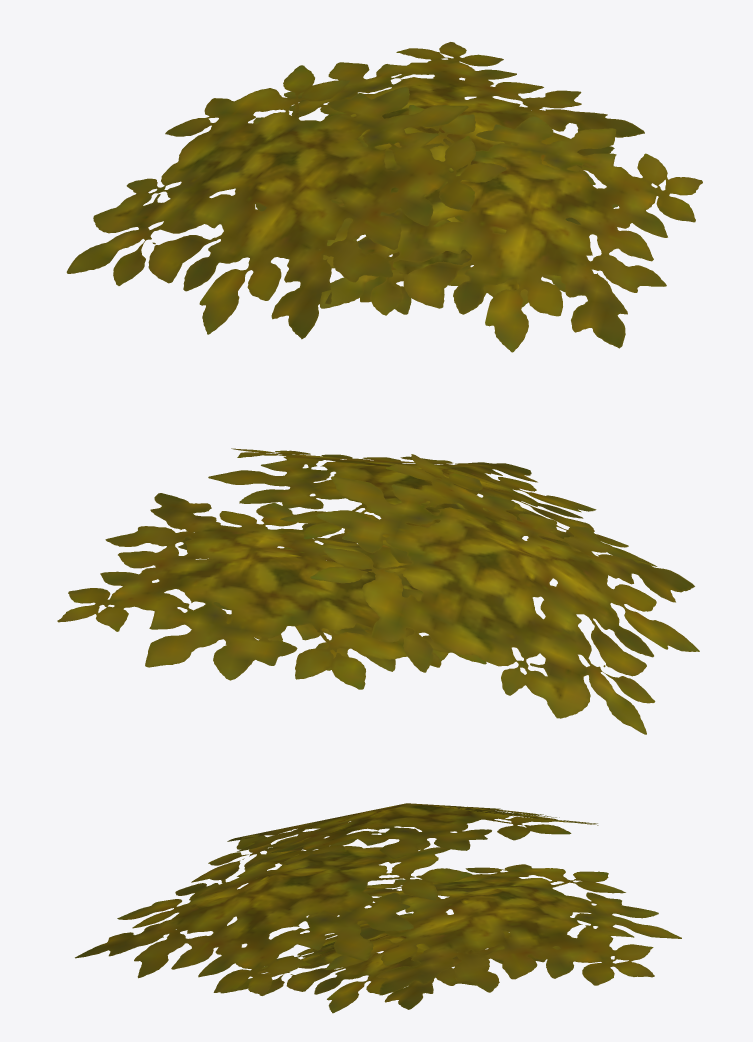
Rendered from FB4_shuye01.FBX.
3 views of the same model, one above another, from view 1: azimuth 30°, elevation 25°; view 2: azimuth 150°, elevation 25°; view 3: azimuth 270°, elevation 25° (orthographic). The views are drawn at different scales.
Parts seen in each view (by area): view 1: FB4_shuye01_001; view 2: FB4_shuye01_001; view 3: FB4_shuye01_001.
Part boxes in pixels (bbox=[...]): FB4_shuye01_001: bbox=[66, 42, 702, 352]; FB4_shuye01_001: bbox=[57, 448, 699, 734]; FB4_shuye01_001: bbox=[75, 803, 681, 1013].
Size of the model in its own units: 431 by 107 by 466.
1 material, 1 textured.
